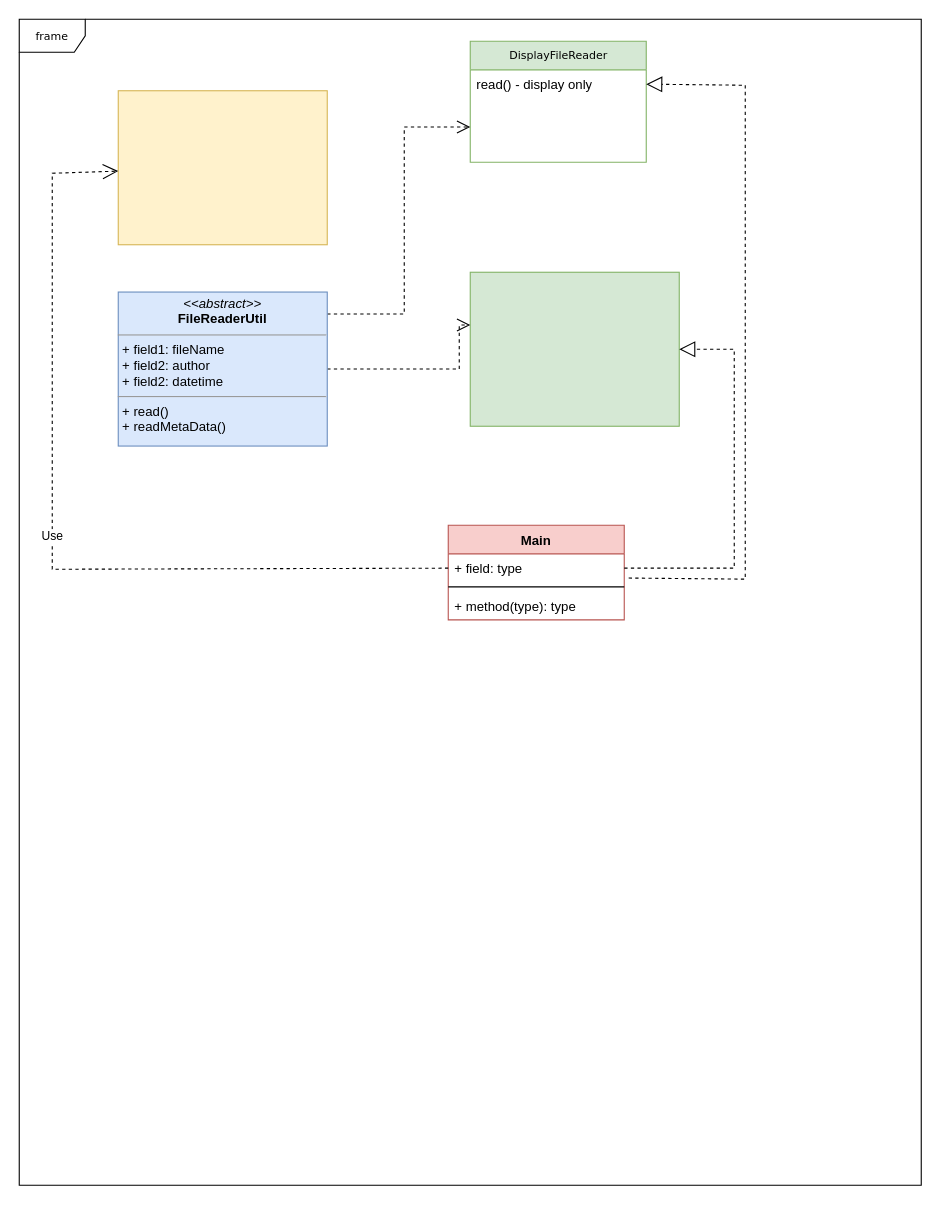
Some shapes in this 941 by 1205 pixel diagram are drawn without their labels. Each missing label, with the centre of its shape:
<<FunInterface>> GenericFileReader String process(FileReaderUtil): the point at 222,167
ProcessFileReader read() - read and process: the point at 574,348
